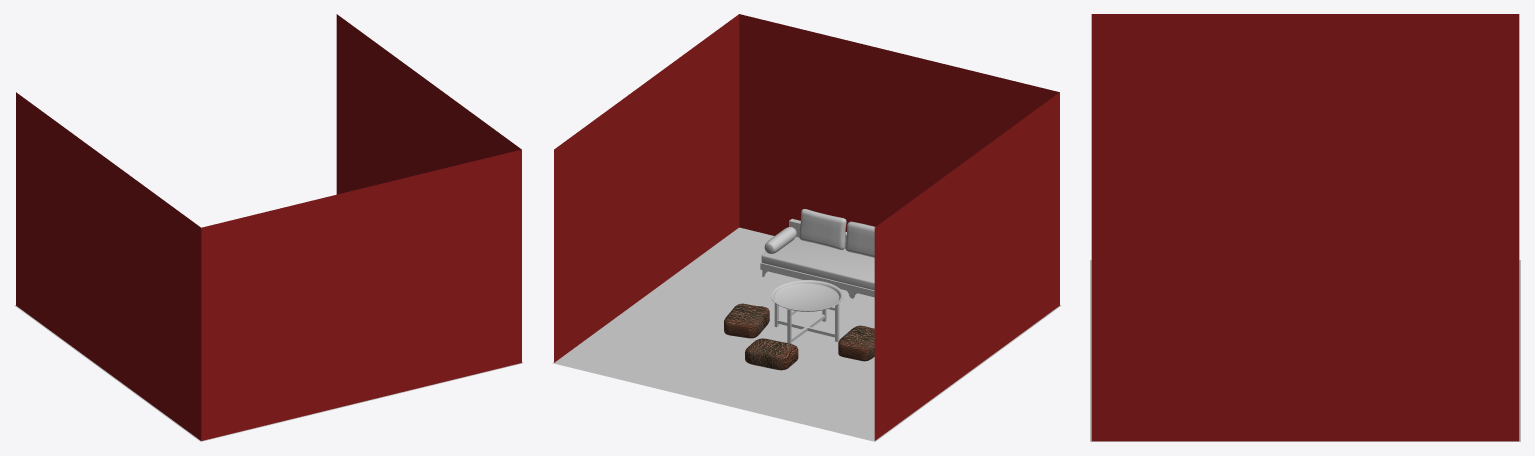
The model's file is traditional table (soli).fbx.
3 renders of one model, left to right at view 1: azimuth 30°, elevation 25°; view 2: azimuth 150°, elevation 25°; view 3: azimuth 270°, elevation 25°, orthographic. The views are drawn at different scales.
Visible parts, largest first — view 1: Plane, Plane.002; view 2: Plane, Plane.002, Plane.003, Cube.005, Cylinder, Cube.008, Cube.003, Cube.004, Cube.002, Plane.001, Cube.006, Cube.001 (+1 smaller); view 3: Plane, Plane.002.
Boxes of the visible parts, x1,y1,x2,y2 form: Plane: [16, 14, 521, 440]; Plane.002: [14, 305, 523, 441]; Plane: [554, 14, 1059, 440]; Plane.002: [552, 227, 1061, 441]; Plane.003: [664, 282, 874, 384]; Cube.005: [761, 237, 874, 290]; Cylinder: [770, 280, 843, 311]; Cube.008: [799, 209, 846, 249]; Cube.003: [745, 338, 798, 370]; Cube.004: [724, 303, 769, 338]; Cube.002: [838, 325, 874, 361]; Plane.001: [760, 218, 874, 297]; Cube.006: [845, 221, 875, 257]; Cube.001: [774, 303, 839, 341]; Plane: [1091, 14, 1519, 441]; Plane.002: [1090, 260, 1520, 441].
Size of the model in its own units: 766 by 484 by 766.
